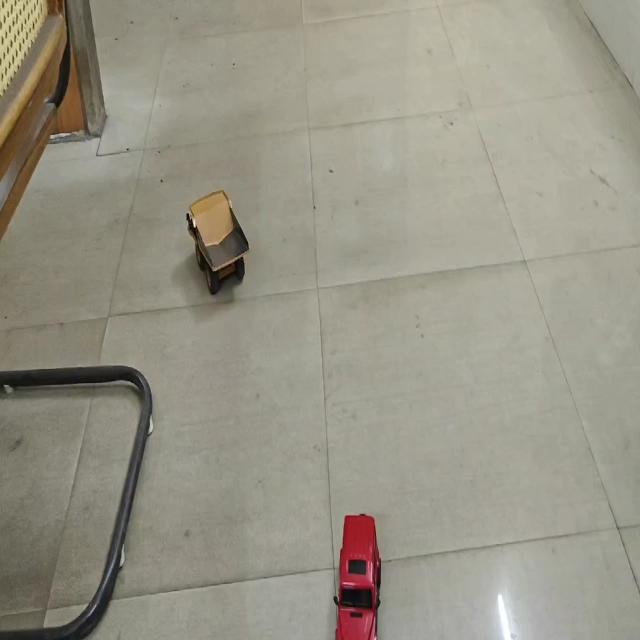dump_truck: (184, 193, 248, 290)
light_vehicle: (333, 510, 383, 640)
